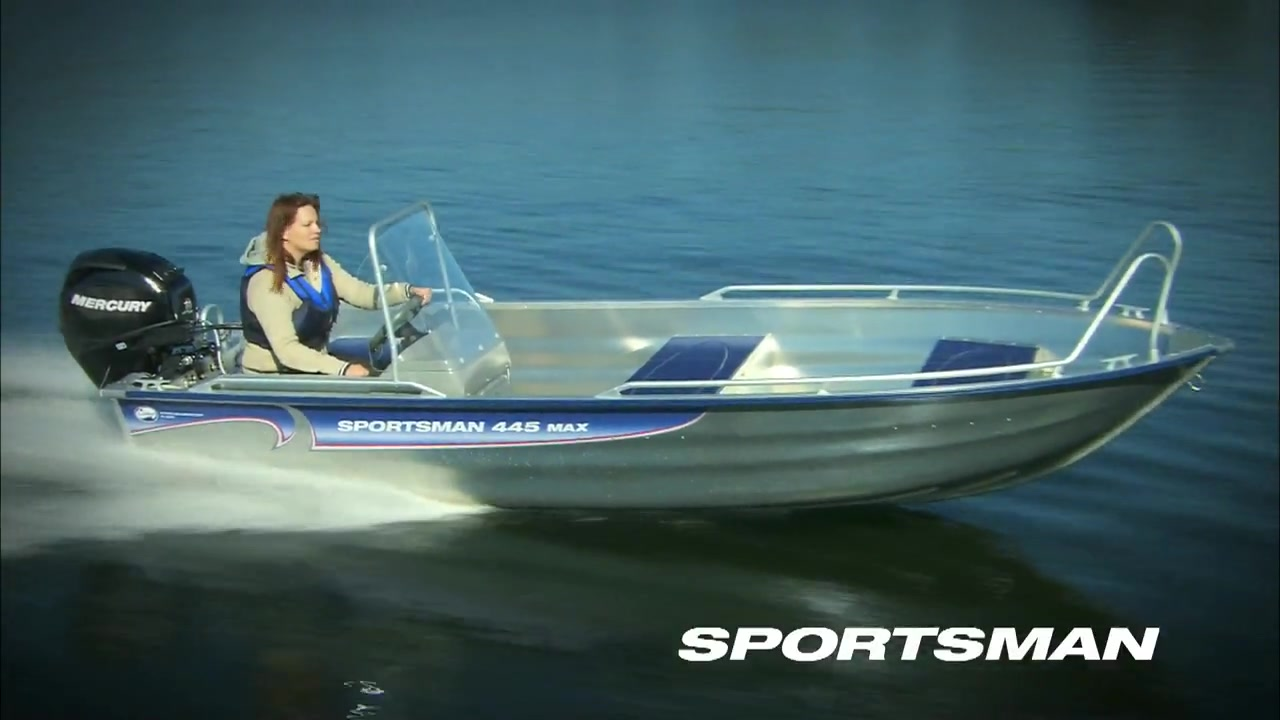boat: (61, 196, 1232, 513)
